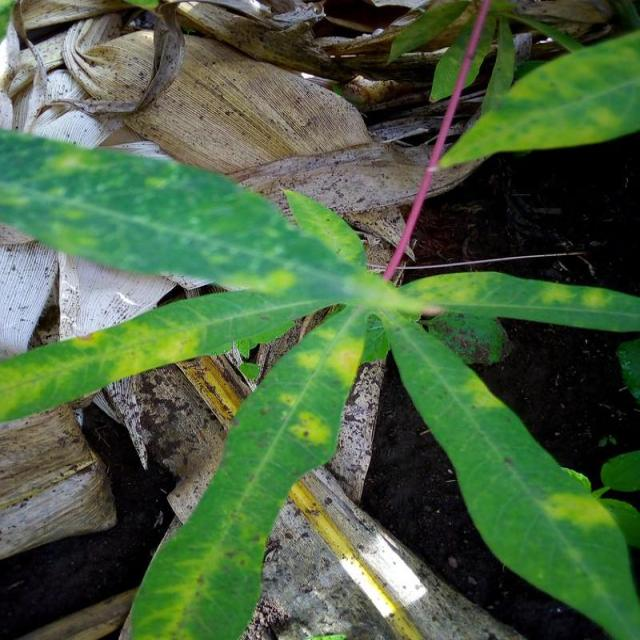cassava leaf: (0, 124, 638, 638), (436, 28, 638, 170)
